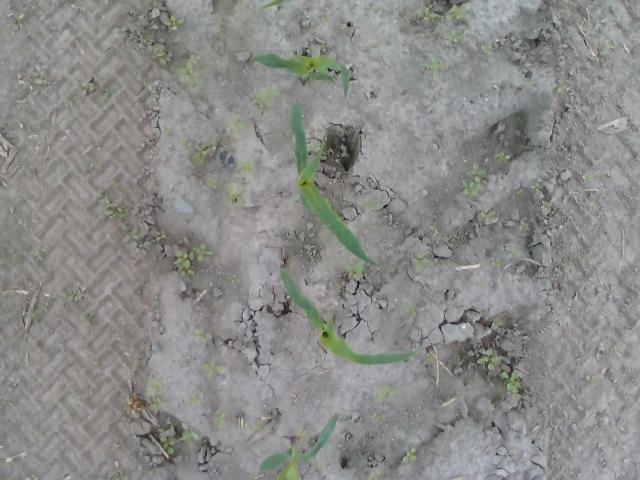Maize: (288, 95, 383, 269), (278, 267, 422, 366), (258, 412, 339, 480), (250, 47, 350, 98), (258, 0, 289, 15)
Weeds: (476, 346, 524, 400), (173, 236, 214, 278), (174, 52, 210, 97), (157, 423, 201, 456), (126, 378, 162, 418), (136, 28, 170, 66), (178, 135, 217, 165), (462, 158, 488, 200), (221, 110, 249, 144), (96, 192, 129, 220), (446, 4, 466, 46), (423, 53, 449, 81), (222, 182, 245, 210), (531, 182, 552, 208), (202, 356, 226, 378), (413, 5, 442, 23), (255, 85, 281, 104), (377, 382, 401, 402), (184, 388, 206, 408), (118, 222, 139, 242), (164, 14, 186, 32), (68, 285, 88, 304), (238, 160, 260, 177), (223, 271, 242, 289), (399, 444, 416, 464), (342, 262, 366, 276), (368, 408, 386, 426), (202, 172, 218, 192), (553, 78, 569, 98), (212, 410, 226, 432), (31, 302, 48, 320), (480, 208, 497, 226), (33, 65, 48, 85), (600, 40, 618, 56), (366, 466, 386, 480), (400, 302, 418, 317), (488, 253, 502, 272), (360, 198, 382, 210), (494, 152, 512, 166), (81, 81, 96, 97), (10, 12, 23, 30), (194, 328, 208, 344), (413, 254, 425, 272), (304, 142, 322, 153), (480, 42, 494, 56), (249, 421, 264, 434), (112, 468, 128, 480), (586, 374, 602, 386), (30, 247, 48, 257), (80, 312, 98, 322), (296, 426, 308, 440), (510, 246, 523, 258), (320, 14, 332, 26), (155, 230, 168, 241), (489, 319, 504, 328), (104, 86, 115, 98), (514, 185, 526, 195), (2, 398, 14, 408), (23, 473, 40, 480), (519, 222, 529, 232), (66, 0, 77, 9), (582, 173, 594, 181), (528, 78, 536, 88), (426, 352, 432, 360), (15, 464, 22, 470)
